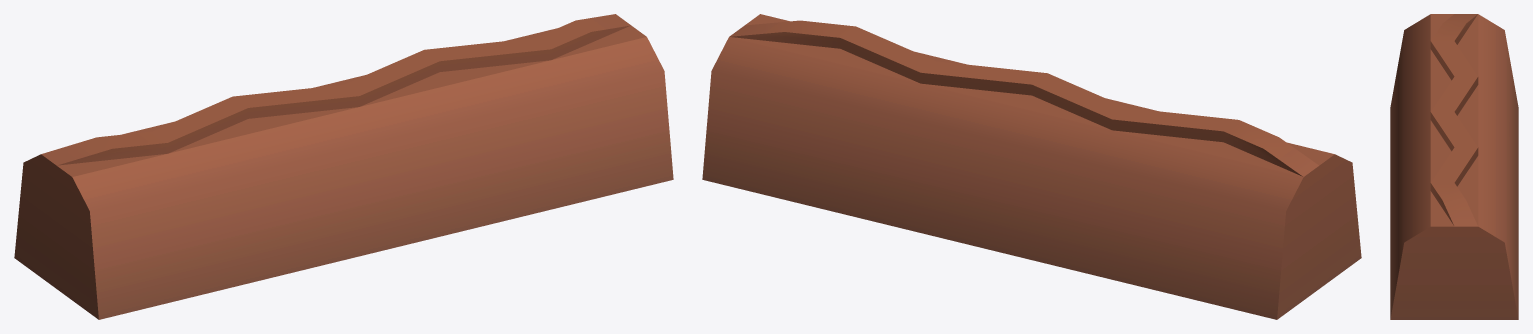
Rendered from candy-bar.glb.
The picture shows the model from 3 angles, left to right: view 1: azimuth 30°, elevation 25°; view 2: azimuth 150°, elevation 25°; view 3: azimuth 270°, elevation 25°; orthographic projection. The views are drawn at different scales.
Parts seen in each view (by area): view 1: candy-bar; view 2: candy-bar; view 3: candy-bar.
Part boxes in pixels (box(x1,y1,x2,y2)): candy-bar: box(14, 14, 673, 319); candy-bar: box(702, 14, 1361, 319); candy-bar: box(1390, 14, 1518, 319).
Bounding box in the file's own units: 0.2924 × 0.0653 × 0.0746.
Materials: 1 (1 with a texture image).
